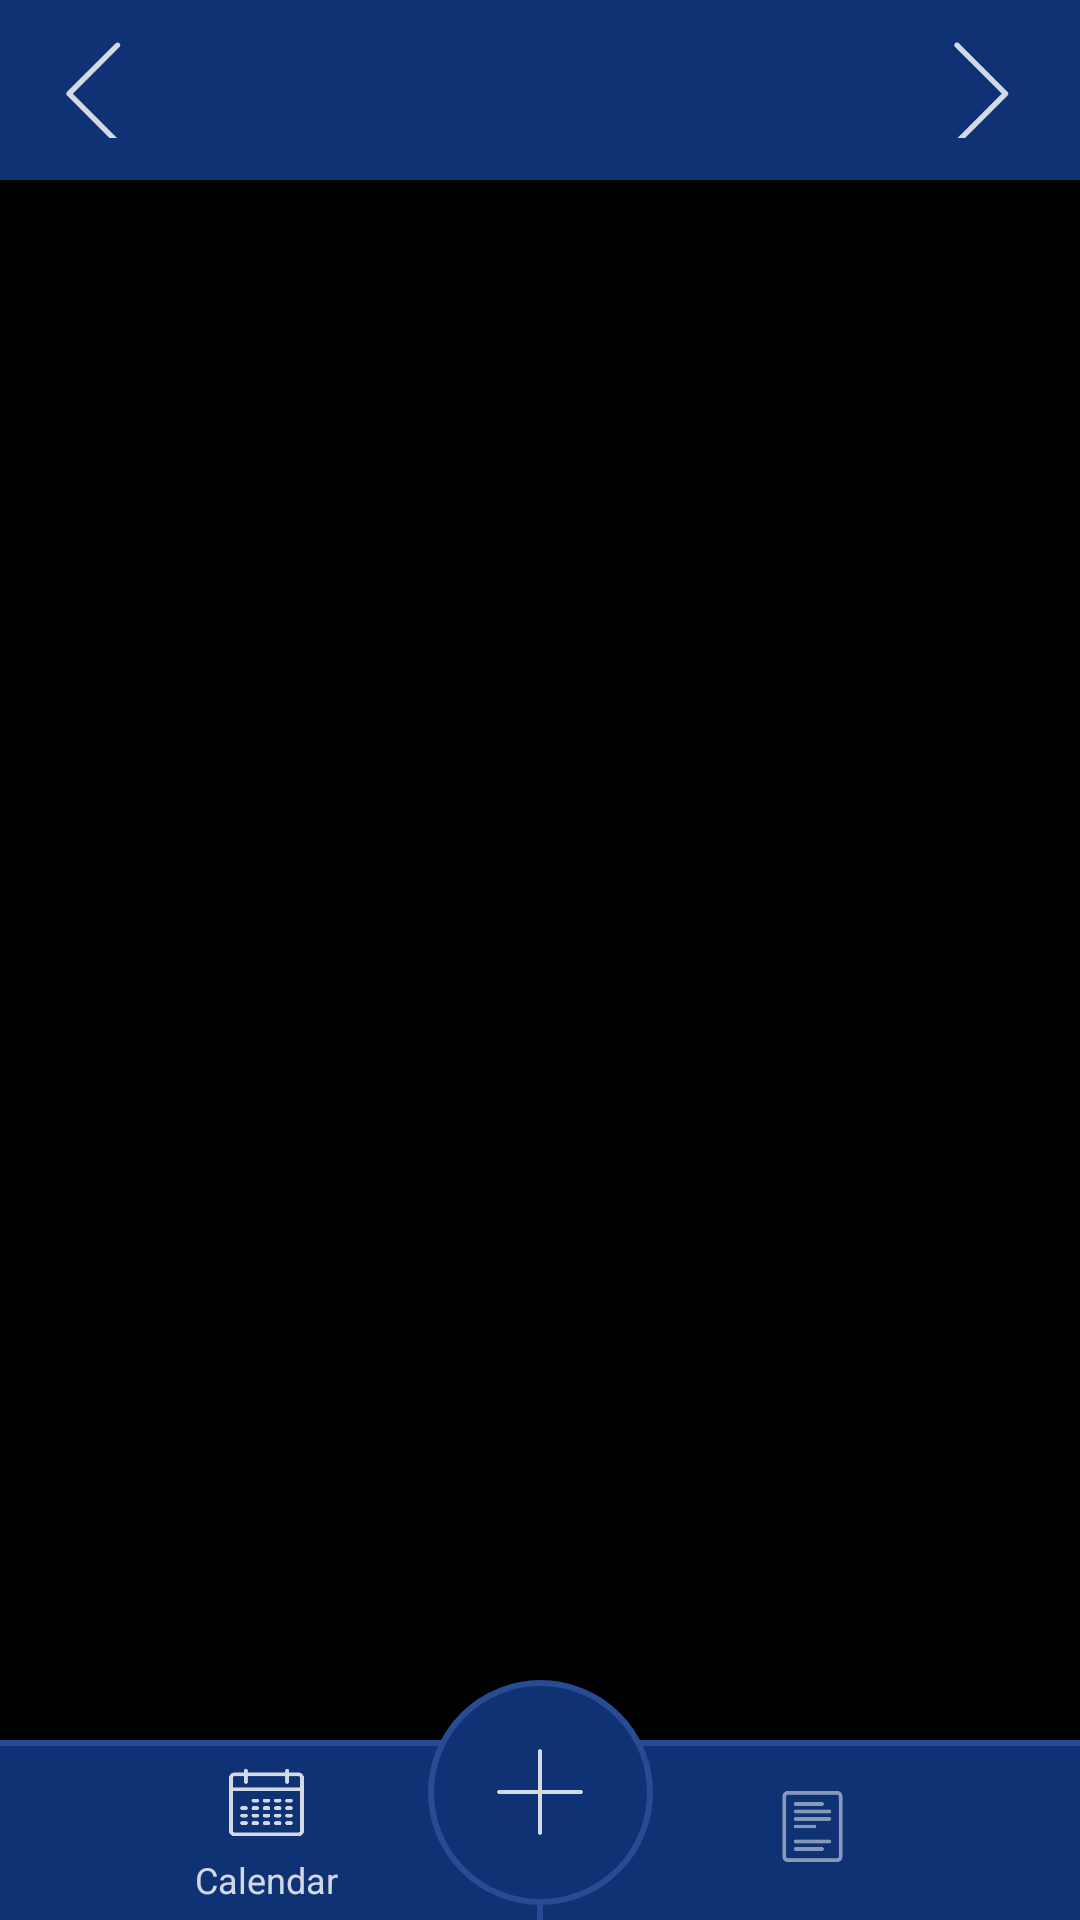

Screen size 1080px×1920px. Icon name, then its center in pixels as (x,y):
Next: (981,90)
plus: (540,1792)
Previous: (93,90)
Reports: (812,1826)
